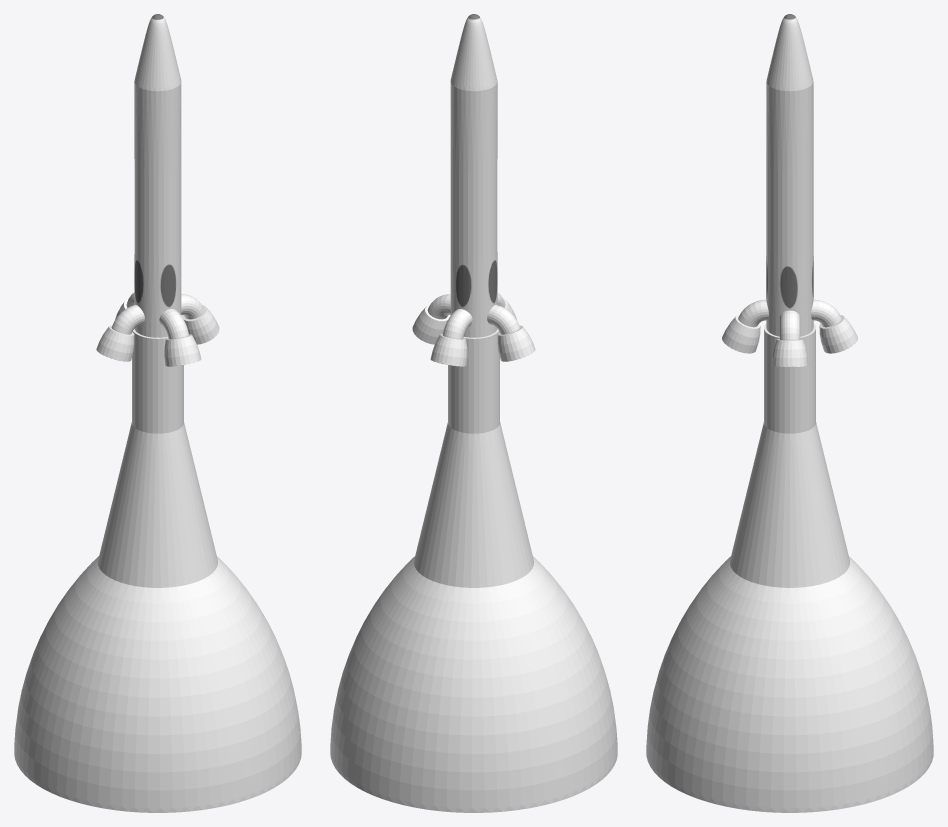
Rendered from LAS.obj.
The picture shows the model from 3 angles, left to right: view 1: azimuth 30°, elevation 25°; view 2: azimuth 150°, elevation 25°; view 3: azimuth 270°, elevation 25°; orthographic projection.
Visible parts, largest first — view 1: LAS; view 2: LAS; view 3: LAS.
Boxes of the visible parts, x1,y1,x2,y2 form: LAS: (14, 14, 301, 812); LAS: (330, 14, 617, 812); LAS: (646, 14, 933, 812).
Size of the model in its own units: 110 by 311 by 110.
